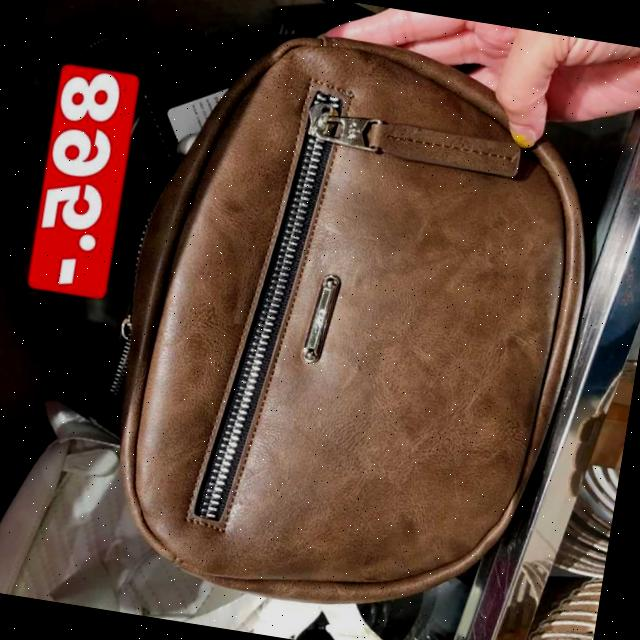Handbag: (88, 4, 618, 638)
